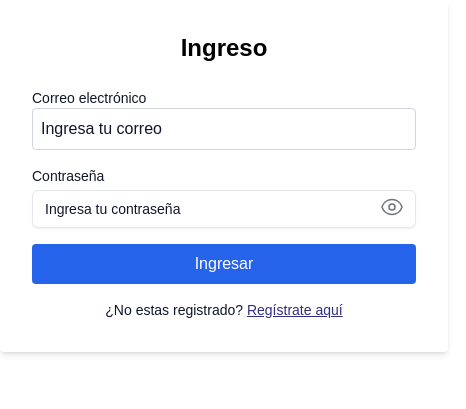
Test case: LoginForm › displays an error message when login fails
The image size is (466, 409).
Type "test@example.com" into the field with test id "email" at (224, 129), box x1=32 y1=108 x2=416 y2=150
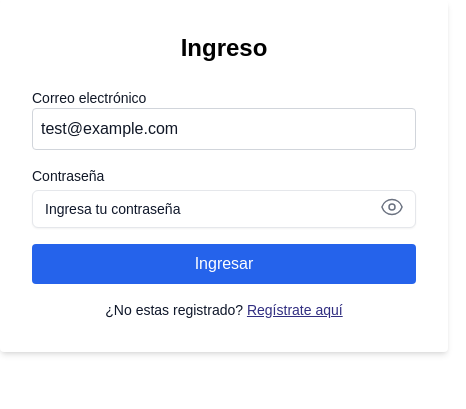
Type "wrongpassword" into the password field with test id "password" at (224, 209), box x1=32 y1=190 x2=416 y2=228
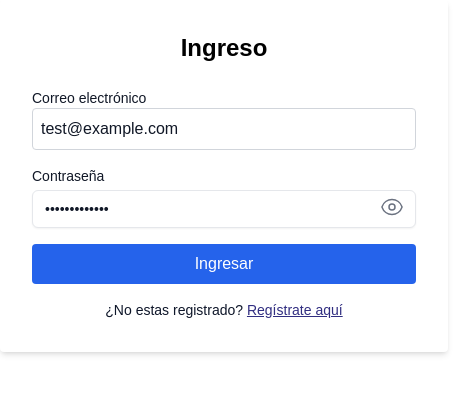
Click the button "Ingresar" at (224, 264), box x1=32 y1=244 x2=416 y2=284
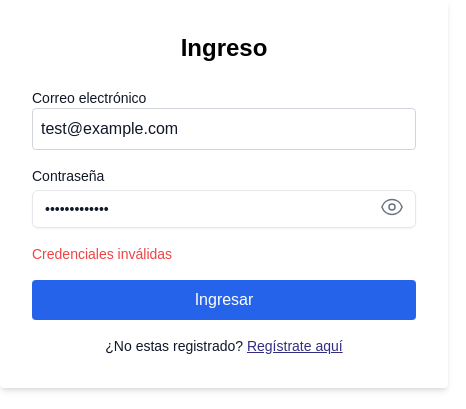
Expected: the text "Credenciales inválidas" is shown, x1=32 y1=246 x2=172 y2=262
